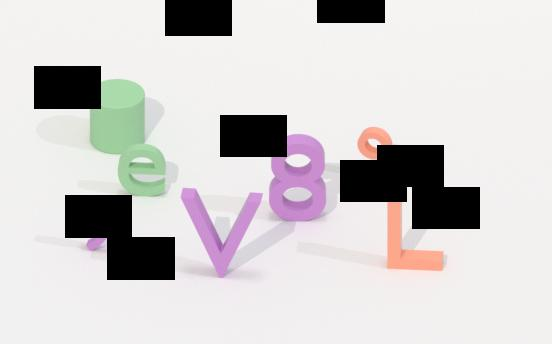8: (264, 128, 329, 226)
9: (355, 123, 395, 183), (77, 197, 117, 253)
e: (115, 143, 167, 199)
l: (379, 178, 448, 275)
tru: (87, 77, 148, 158)
v: (177, 180, 265, 280)
